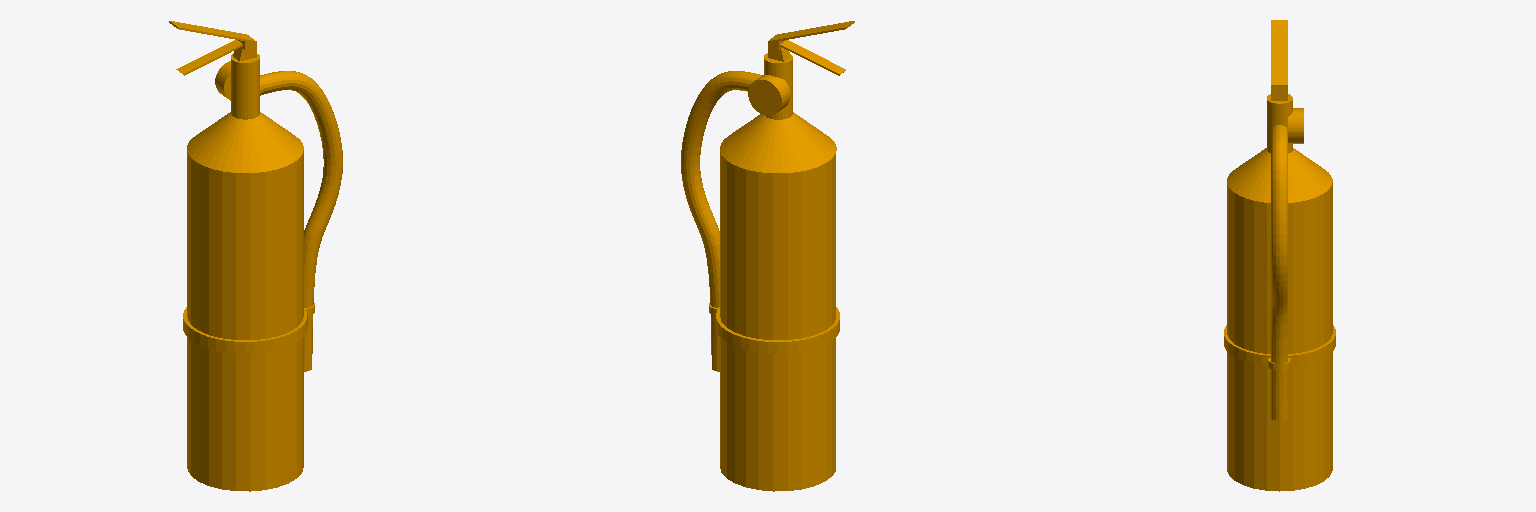
robot.urdf — fire:
<?xml version="1.0" encoding="utf-8"?>
<!-- This URDF was automatically created by SolidWorks to URDF Exporter! Originally created by [author] ([email redacted]) 
     Commit Version: 1.6.0-1-g15f4949  Build Version: 1.6.7594.29634
     For more information, please see http://wiki.ros.org/sw_urdf_exporter -->
<robot
  name="fire">
  <link
    name="base_link">
    <inertial>
      <origin
        xyz="0.00260952513998855 -0.000176593107475975 0.248165822181797"
        rpy="0 0 0" />
      <mass
        value="9.55341234344853" />
      <inertia
        ixx="0.163635691089763"
        ixy="-3.28300986719657E-07"
        ixz="0.000347916491321514"
        iyy="0.164005162403854"
        iyz="5.10926102611648E-07"
        izz="0.0265299445948828" />
    </inertial>
    <visual>
      <origin
        xyz="0 0 0"
        rpy="0 0 0" />
      <geometry>
        <mesh
          filename="package://fire/meshes/base_link.dae" />
<material>
            <script>
 		<uri>file:/[local-path]/scripts/gazebo.material</uri>
              <name>Gazebo/Sand_Floor</name>
            </script>
          </material>

      </geometry>


    </visual>
    <collision>
      <origin
        xyz="0 0 0"
        rpy="0 0 0" />
      <geometry>
        <mesh
          filename="package://fire/meshes/base_link.dae" />
      </geometry>
    </collision>
  </link>


<gazebo reference="base_link">
    <material>Gazebo/Red</material>
</gazebo>

<gazebo>
    <static>true</static>
</gazebo>

</robot>

--- Facts derived from the render (not from the file) ---
The picture shows the robot from 3 angles, left to right: view 1: azimuth 30°, elevation 25°; view 2: azimuth 150°, elevation 25°; view 3: azimuth 270°, elevation 25°; orthographic projection.
Model fire with 1 links and 0 joints (none), rooted at base_link, posed every joint at zero.
Links seen in each view (by area): view 1: base_link; view 2: base_link; view 3: base_link.
Boxes of the visible links, left/top/right/bottom form: base_link: left=169, top=21, right=342, bottom=491; base_link: left=681, top=21, right=854, bottom=491; base_link: left=1224, top=20, right=1335, bottom=491.
Size in the robot's own frame: 0.2533 by 0.162 by 0.6621 metres.
1 mesh visuals loaded from 1 distinct referenced files (1 Collada DAE).